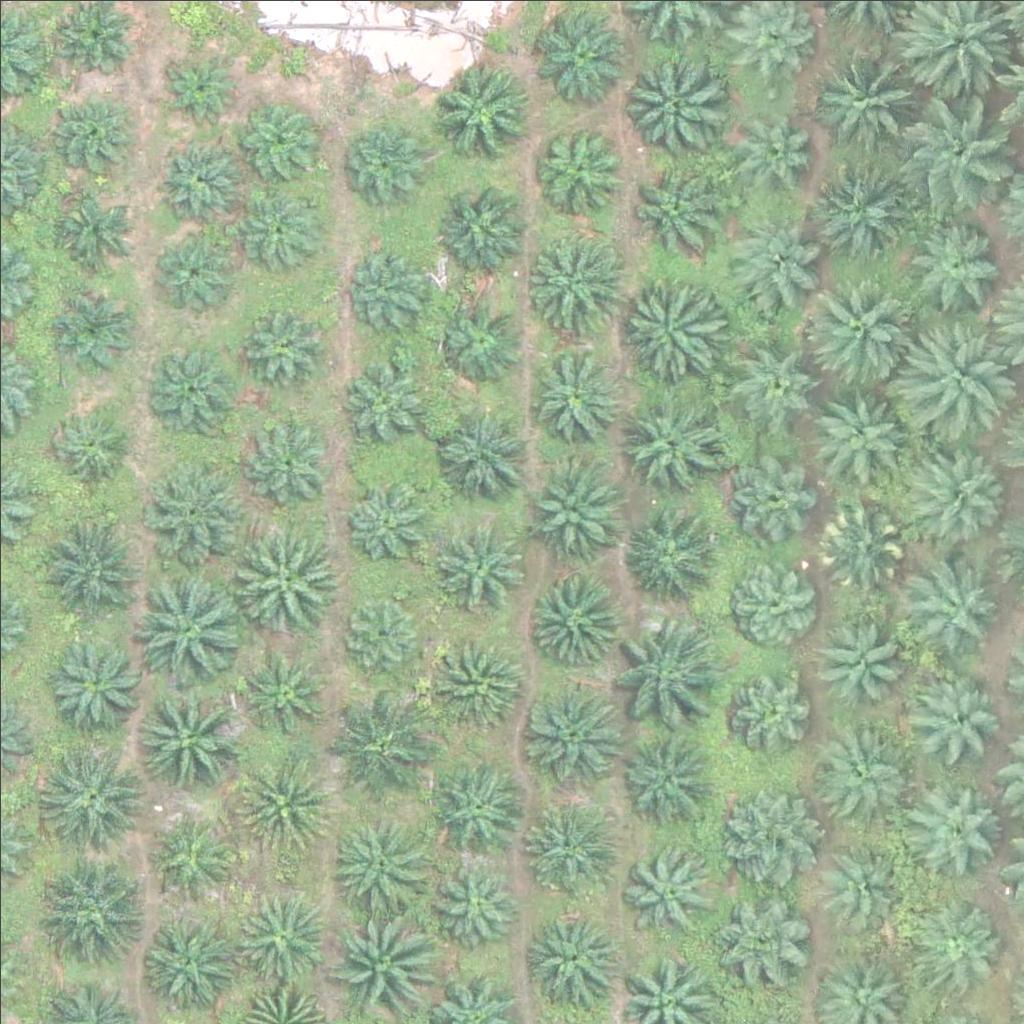Kelapa_Sawit: (812, 36, 925, 150), (40, 503, 153, 616), (131, 566, 244, 679), (605, 610, 718, 723), (895, 91, 1008, 204), (320, 694, 433, 807), (614, 49, 726, 163), (897, 313, 1009, 427), (126, 680, 238, 794), (232, 522, 344, 635), (800, 268, 912, 381), (322, 805, 434, 918), (40, 852, 152, 965), (39, 738, 151, 851), (44, 628, 144, 729), (147, 461, 247, 562), (430, 632, 530, 733), (428, 403, 528, 504), (432, 171, 532, 272), (431, 55, 531, 156), (522, 227, 622, 328), (618, 499, 718, 600), (622, 387, 722, 488), (622, 271, 722, 372), (807, 382, 907, 483), (908, 221, 1008, 322), (812, 723, 912, 824), (712, 890, 812, 991), (714, 786, 814, 887), (618, 836, 718, 937), (614, 727, 714, 828), (520, 684, 620, 785), (521, 908, 621, 1009), (425, 752, 525, 853), (235, 753, 335, 854), (136, 909, 236, 1010), (523, 566, 623, 666), (522, 461, 622, 561), (620, 156, 720, 256), (719, 212, 819, 312), (812, 156, 912, 256), (913, 440, 1013, 540), (905, 781, 1005, 881), (513, 798, 613, 898), (334, 588, 422, 676), (345, 481, 433, 569), (341, 353, 429, 441), (348, 251, 436, 339), (246, 303, 334, 391), (148, 348, 236, 436), (47, 402, 135, 490), (432, 520, 520, 608), (532, 118, 620, 206), (915, 674, 1003, 762), (914, 558, 1002, 646), (236, 896, 324, 984), (240, 645, 328, 733), (142, 821, 230, 909), (342, 116, 429, 204), (232, 99, 319, 187), (236, 184, 323, 272), (245, 420, 332, 508), (151, 223, 238, 311), (150, 139, 237, 227), (52, 95, 139, 183), (44, 192, 131, 280), (52, 289, 139, 377), (437, 298, 524, 386), (528, 354, 615, 442), (725, 660, 812, 748), (728, 551, 815, 639), (725, 452, 812, 540), (728, 335, 815, 423), (728, 91, 815, 179), (818, 499, 905, 587), (819, 614, 906, 702), (918, 896, 1005, 984), (820, 838, 907, 926), (431, 863, 518, 951), (161, 54, 236, 130)
